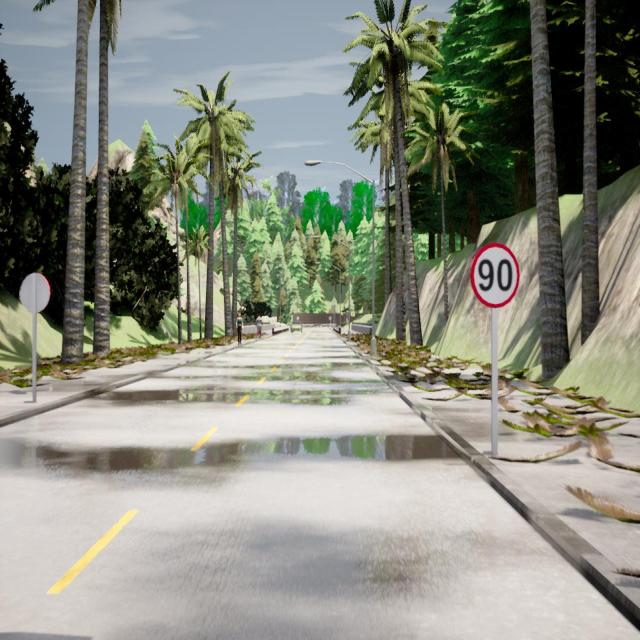Pedestrian: (256, 312, 264, 339), (236, 312, 242, 344)
Traffic_Signs: (470, 242, 518, 307), (19, 273, 52, 314), (296, 316, 300, 321), (328, 316, 332, 321)
